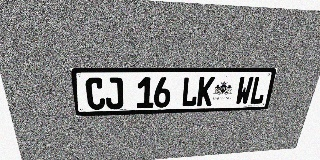1: (137, 77, 154, 108)
6: (154, 77, 171, 108)
C: (85, 78, 106, 110)
J: (104, 77, 123, 109)
K: (196, 77, 215, 106)
L: (181, 77, 199, 107), (249, 76, 268, 104)
W: (235, 76, 254, 105)
